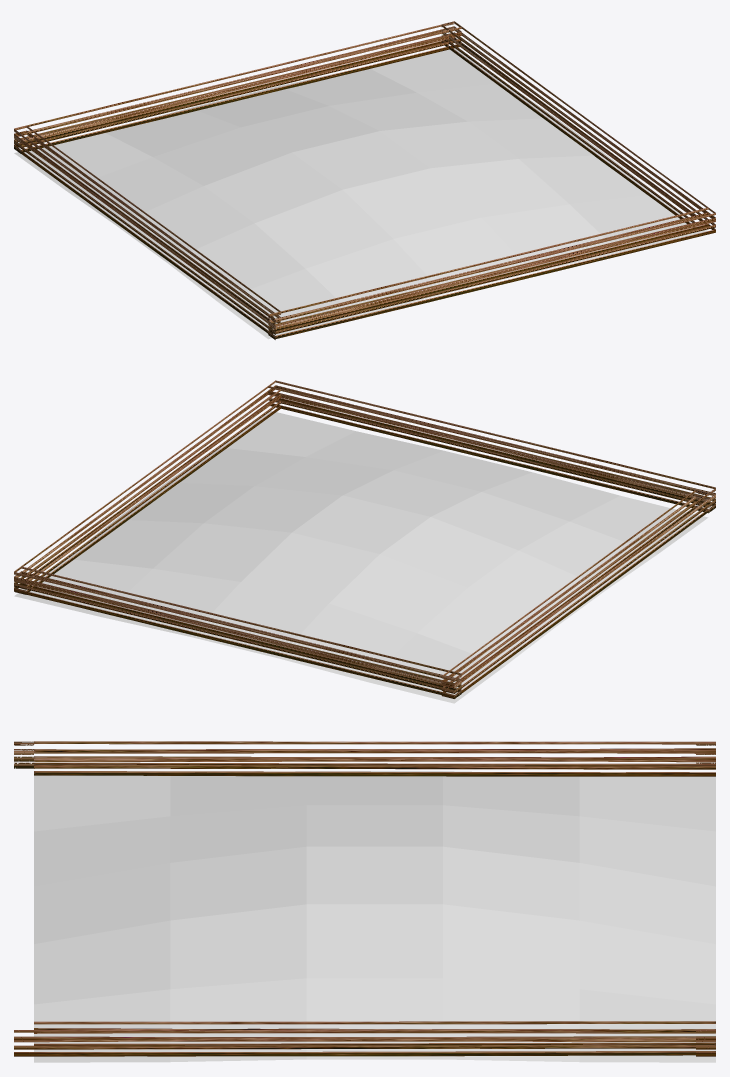
Rendered from balla_mini_vegetación.fbx.
3 renders of one model, top to bottom at view 1: azimuth 30°, elevation 25°; view 2: azimuth 150°, elevation 25°; view 3: azimuth 270°, elevation 25°, orthographic. The views are drawn at different scales.
Parts seen in each view (by area): view 1: Plane, Plane.002, Plane.005, Plane.003, Plane.004; view 2: Plane, Plane.005, Plane.002, Plane.003, Plane.004; view 3: Plane, Plane.003, Plane.004, Plane.002.
Part boxes in pixels (left/top/right/bottom): Plane: left=14, top=48, right=707, bottom=339; Plane.002: left=268, top=207, right=715, bottom=339; Plane.005: left=14, top=21, right=461, bottom=153; Plane.003: left=14, top=125, right=280, bottom=333; Plane.004: left=441, top=21, right=708, bottom=227; Plane: left=14, top=411, right=708, bottom=703; Plane.005: left=14, top=566, right=461, bottom=698; Plane.002: left=268, top=380, right=715, bottom=512; Plane.003: left=441, top=490, right=708, bottom=698; Plane.004: left=14, top=386, right=280, bottom=594; Plane: left=34, top=771, right=715, bottom=1062; Plane.003: left=34, top=741, right=715, bottom=776; Plane.004: left=34, top=1021, right=715, bottom=1056; Plane.002: left=14, top=741, right=33, bottom=1056.
Size of the model in its own units: 97.3 by 6.78 by 100.
2 materials, 1 textured.
